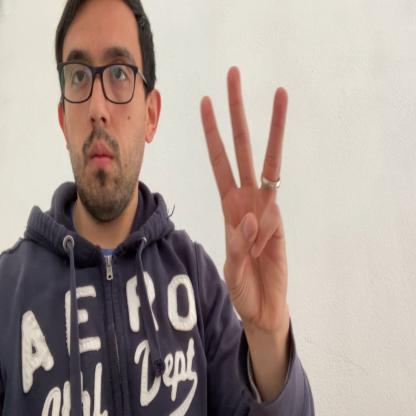W: (200, 66, 288, 340)
